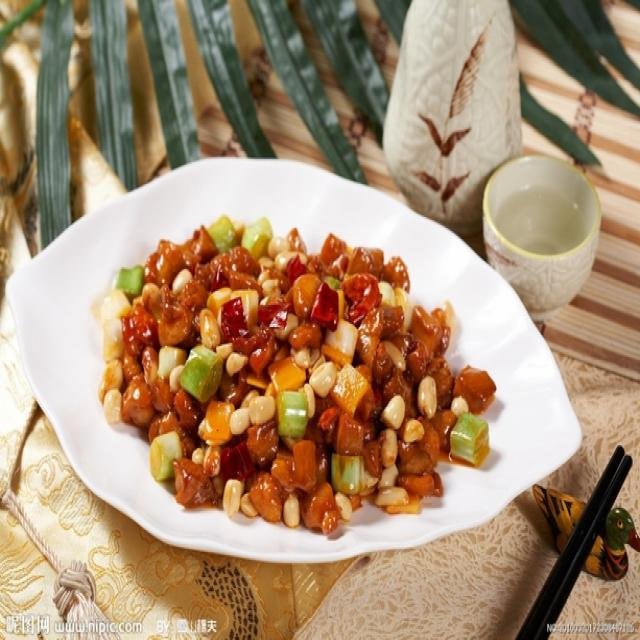鸡肉料理 含炸鸡: (16, 143, 573, 560)
